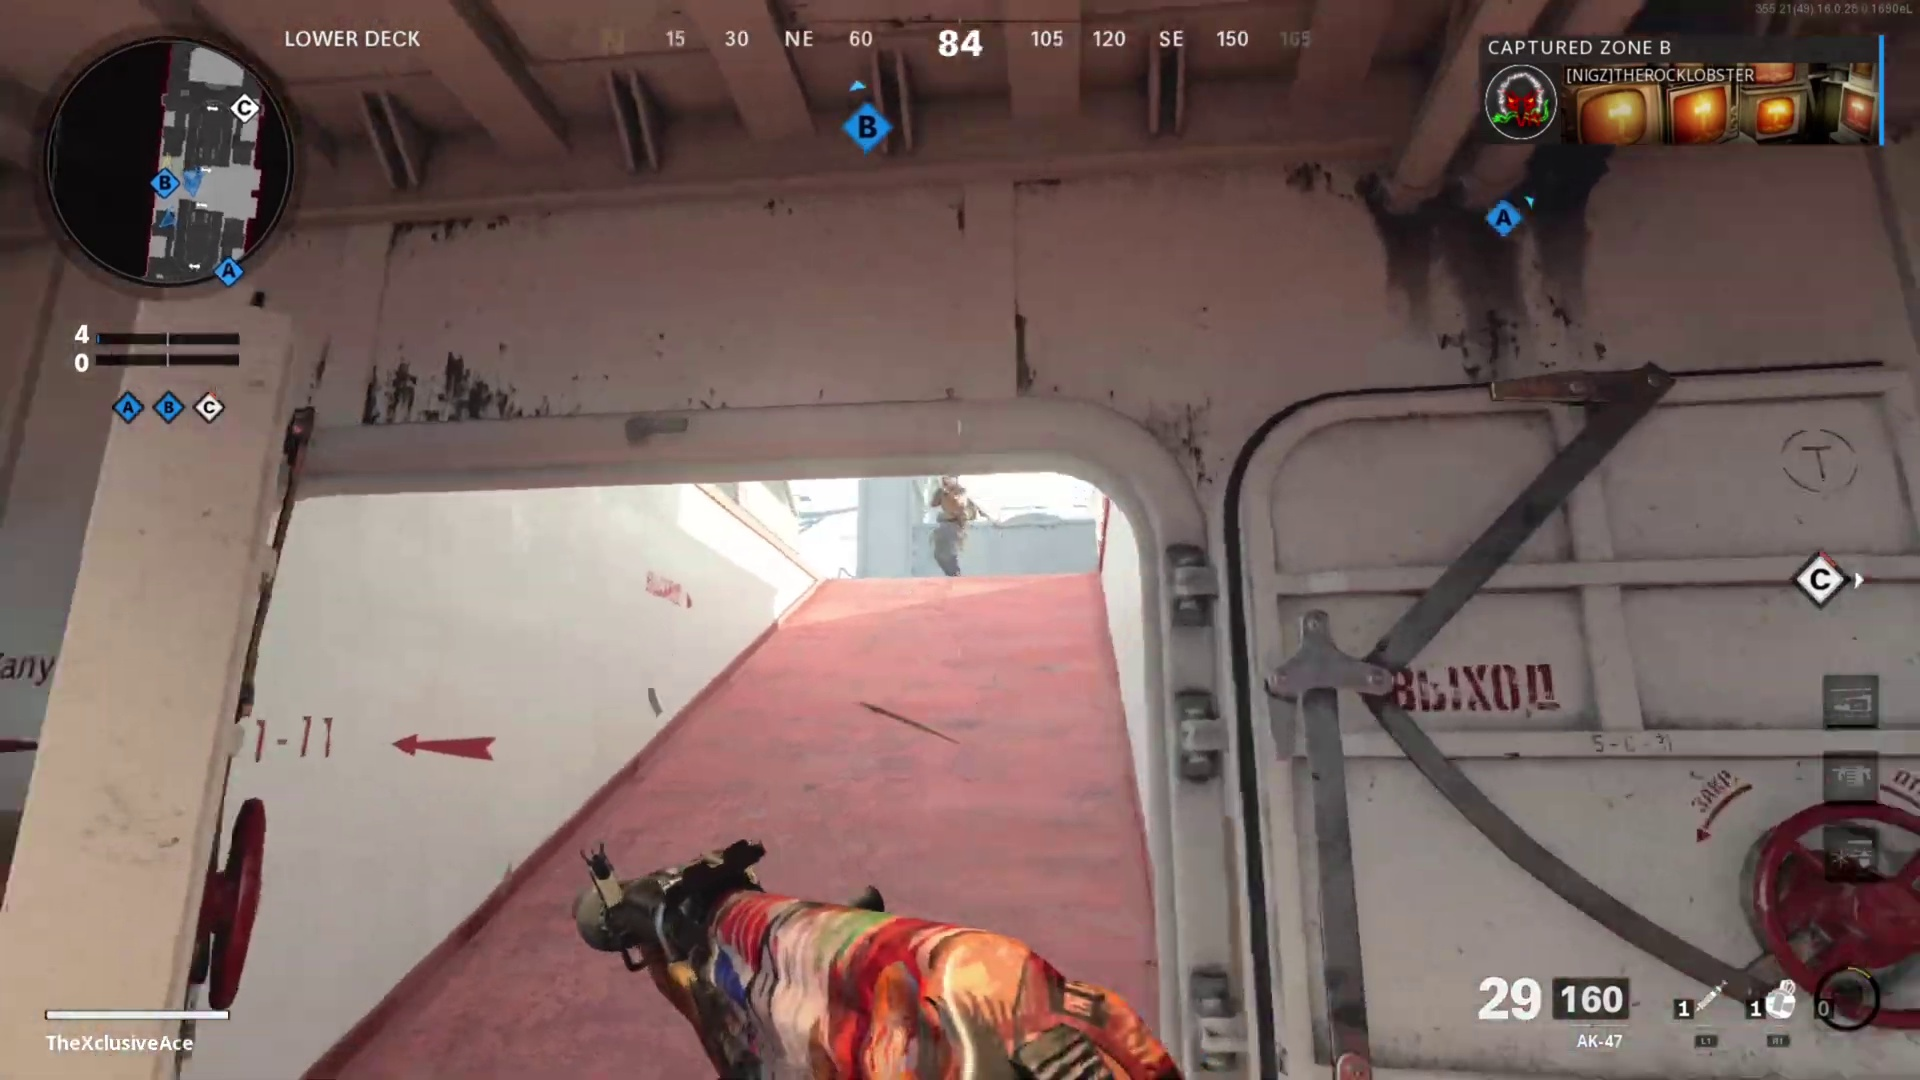person: (922, 475, 984, 576)
